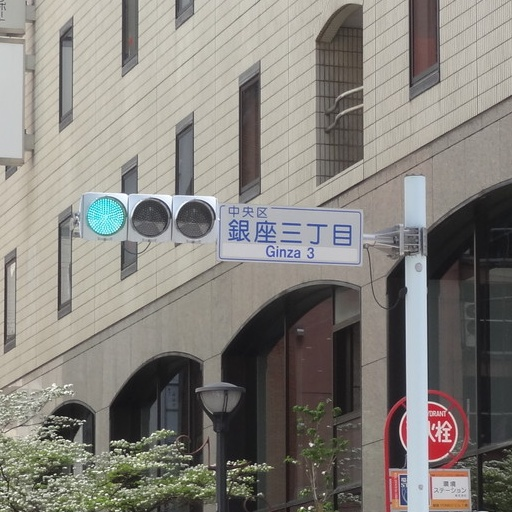Traffic_Signal_Blue: (77, 185, 220, 245)
